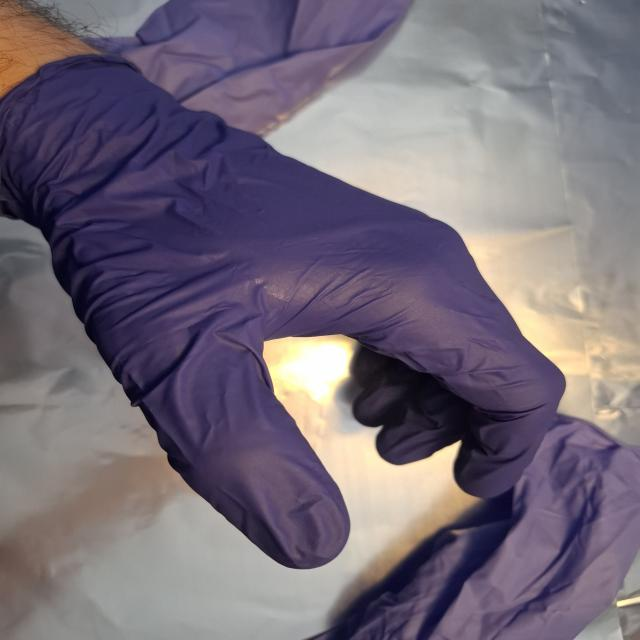glove_on: (0, 43, 575, 574)
